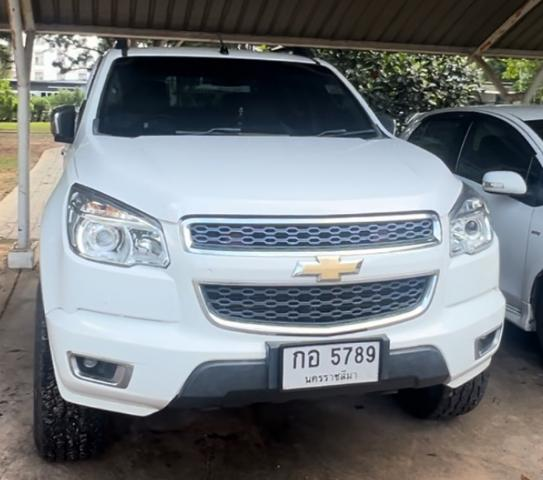pickup-truck: (35, 45, 507, 464)
